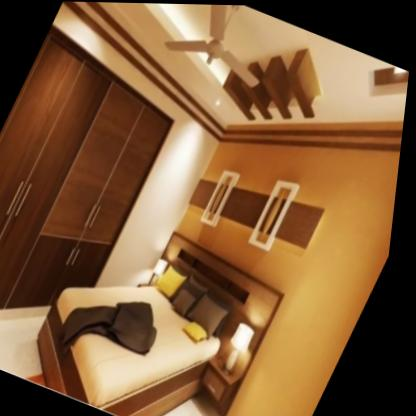Bed: (18, 203, 270, 416)
Closet: (0, 21, 131, 348)
Lamp: (219, 311, 271, 379)
